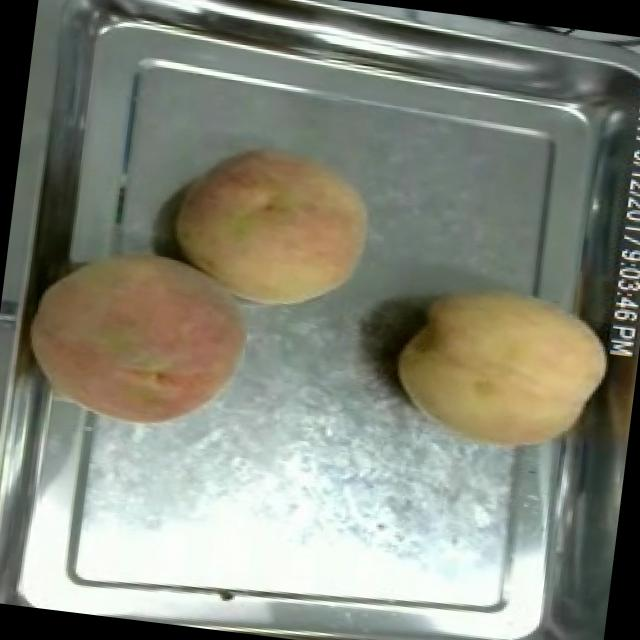Fruit: (13, 228, 264, 446), (378, 268, 624, 472), (162, 130, 388, 328)
